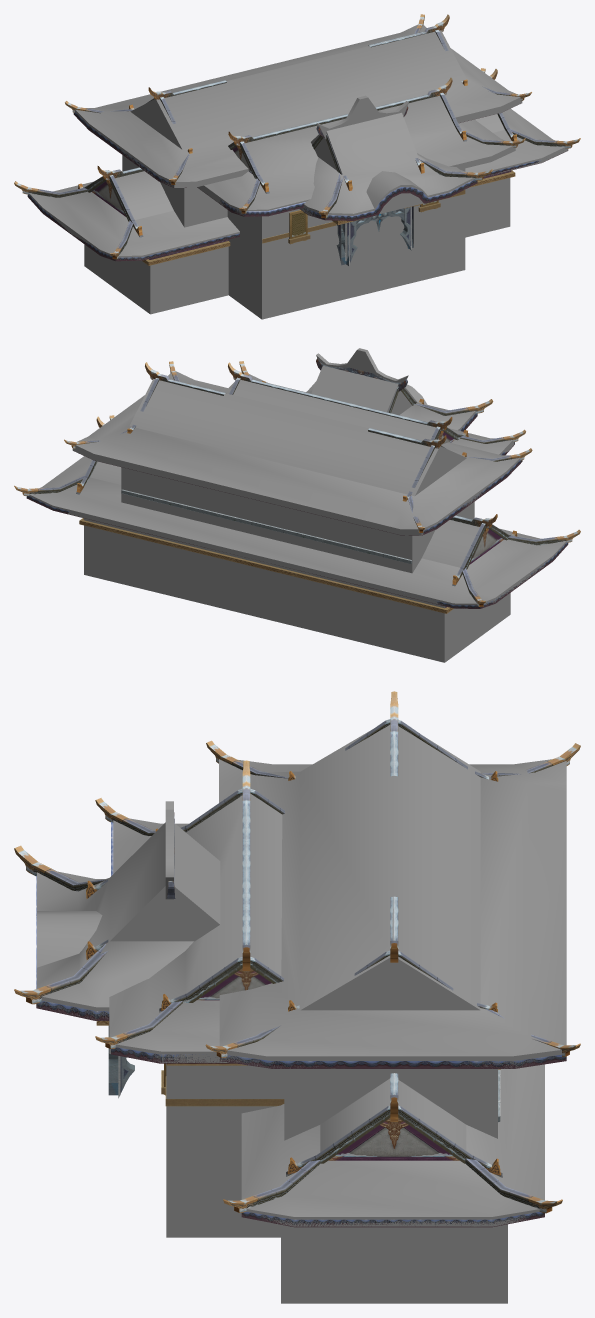
The model's file is Scene_Build_TianShan_ZhuDian_2.FBX.
The picture shows the model from 3 angles, top to bottom: view 1: azimuth 30°, elevation 25°; view 2: azimuth 150°, elevation 25°; view 3: azimuth 270°, elevation 25°; orthographic projection. The views are drawn at different scales.
Parts seen in each view (by area): view 1: Scene_Build_TianShan_ZhuDian_2_Xzm, Scene_Build_TianShan_ZhuDian_2a, Scene_Build_TianShan_ZhuDian_2b; view 2: Scene_Build_TianShan_ZhuDian_2_Xzm, Scene_Build_TianShan_ZhuDian_2a, Scene_Build_TianShan_ZhuDian_2b; view 3: Scene_Build_TianShan_ZhuDian_2_Xzm, Scene_Build_TianShan_ZhuDian_2a, Scene_Build_TianShan_ZhuDian_2b.
Boxes of the visible parts, bbox=[...] form: Scene_Build_TianShan_ZhuDian_2_Xzm: bbox=[29, 24, 568, 319]; Scene_Build_TianShan_ZhuDian_2a: bbox=[14, 14, 580, 265]; Scene_Build_TianShan_ZhuDian_2b: bbox=[27, 105, 567, 261]; Scene_Build_TianShan_ZhuDian_2_Xzm: bbox=[29, 348, 566, 662]; Scene_Build_TianShan_ZhuDian_2a: bbox=[14, 358, 580, 613]; Scene_Build_TianShan_ZhuDian_2b: bbox=[26, 413, 568, 608]; Scene_Build_TianShan_ZhuDian_2_Xzm: bbox=[37, 725, 566, 1303]; Scene_Build_TianShan_ZhuDian_2a: bbox=[14, 691, 580, 1213]; Scene_Build_TianShan_ZhuDian_2b: bbox=[36, 822, 566, 1227].
Bounding box in the file's own units: 5011 × 1996 × 3027.
